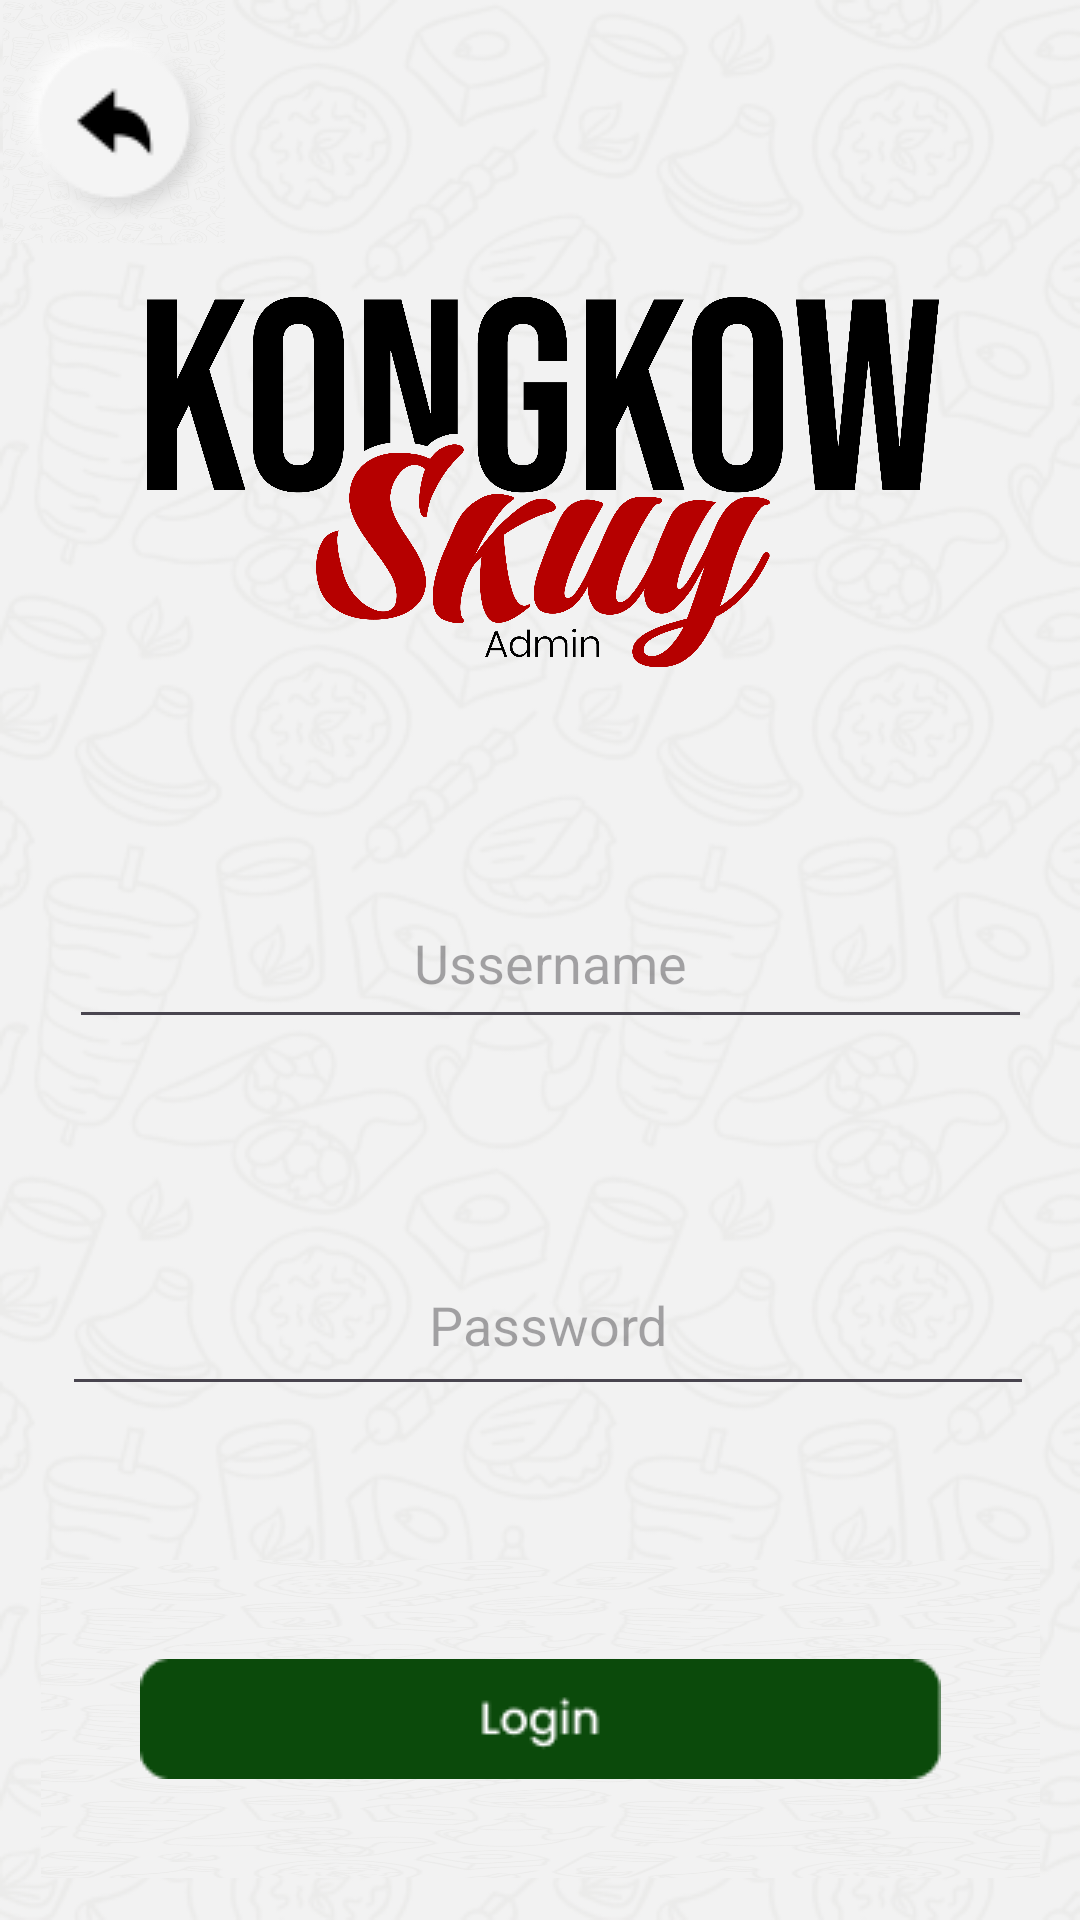

Icons on this 1080 × 1920 Android screen, each with the point to tap as [x,y]:
buttonkembali: [135,145]
